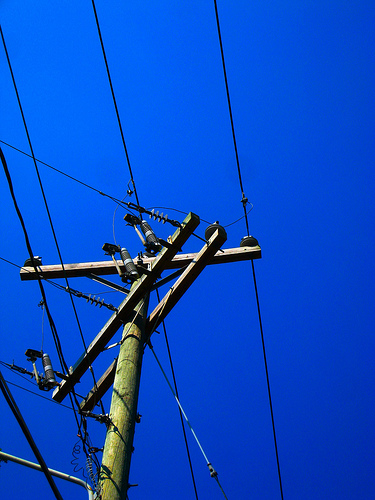pole: (15, 229, 273, 495)
